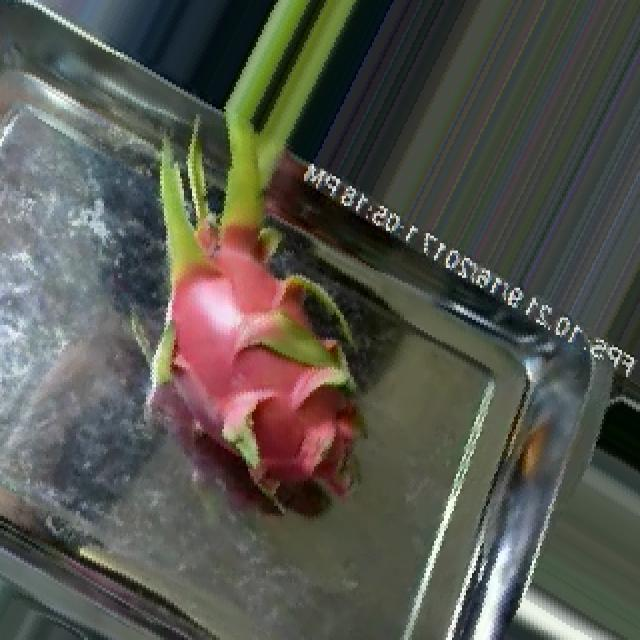fruit: (36, 80, 456, 538)
